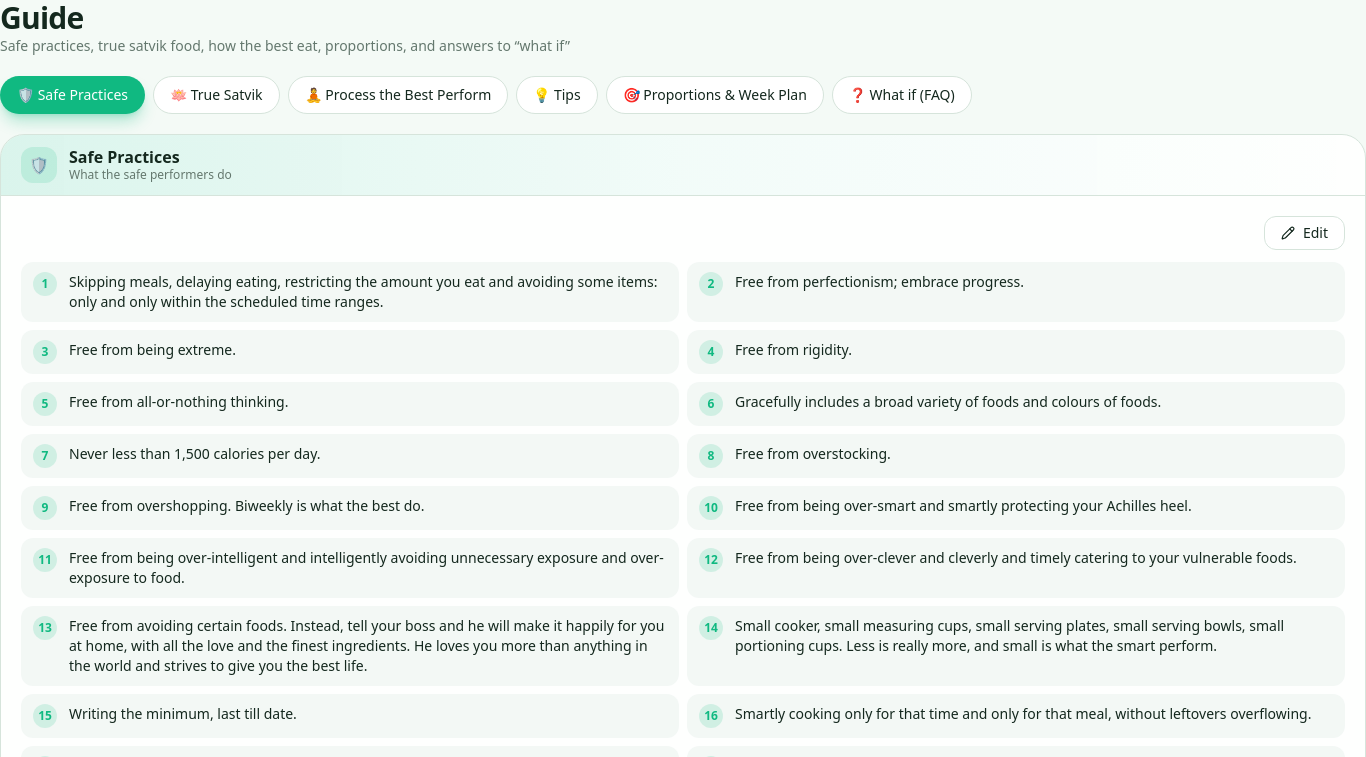
Test: GuideView › shows the Safe Practices section and the What if section
Expected: the tab "🛡️ Safe Practices" is shown, [0,76,145,114]
Click the tab "❓ What if (FAQ)" at (902, 95), box [832,76,972,114]
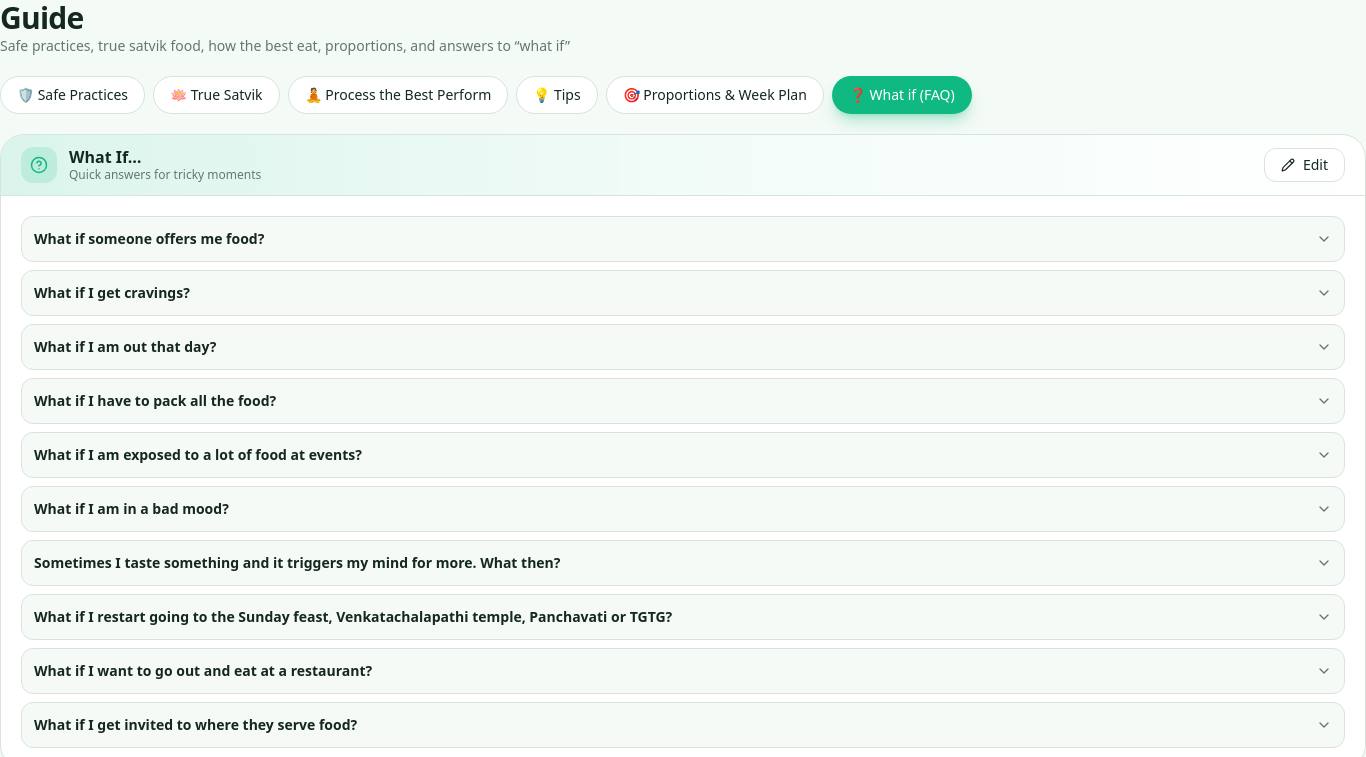
Expected: the text "Quick answers for tricky moments" is shown, [69,167,261,183]
